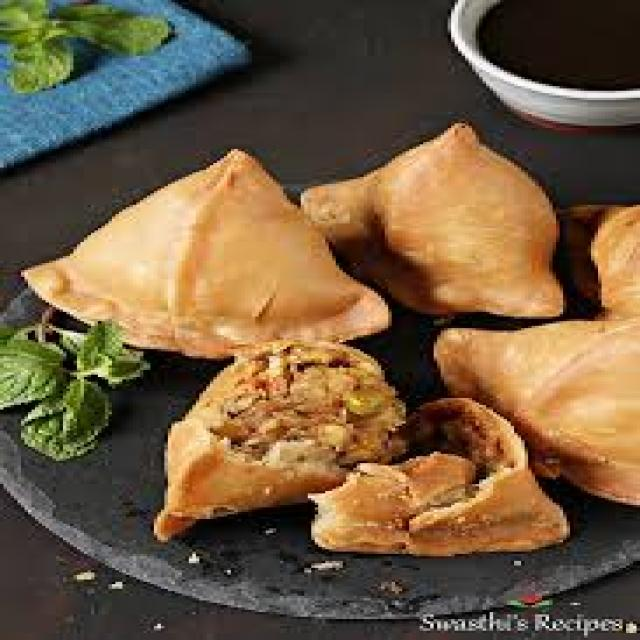SAMOSA: (21, 149, 388, 356), (301, 123, 560, 314), (161, 340, 406, 538), (311, 398, 567, 554), (437, 319, 637, 503), (577, 205, 637, 317)
